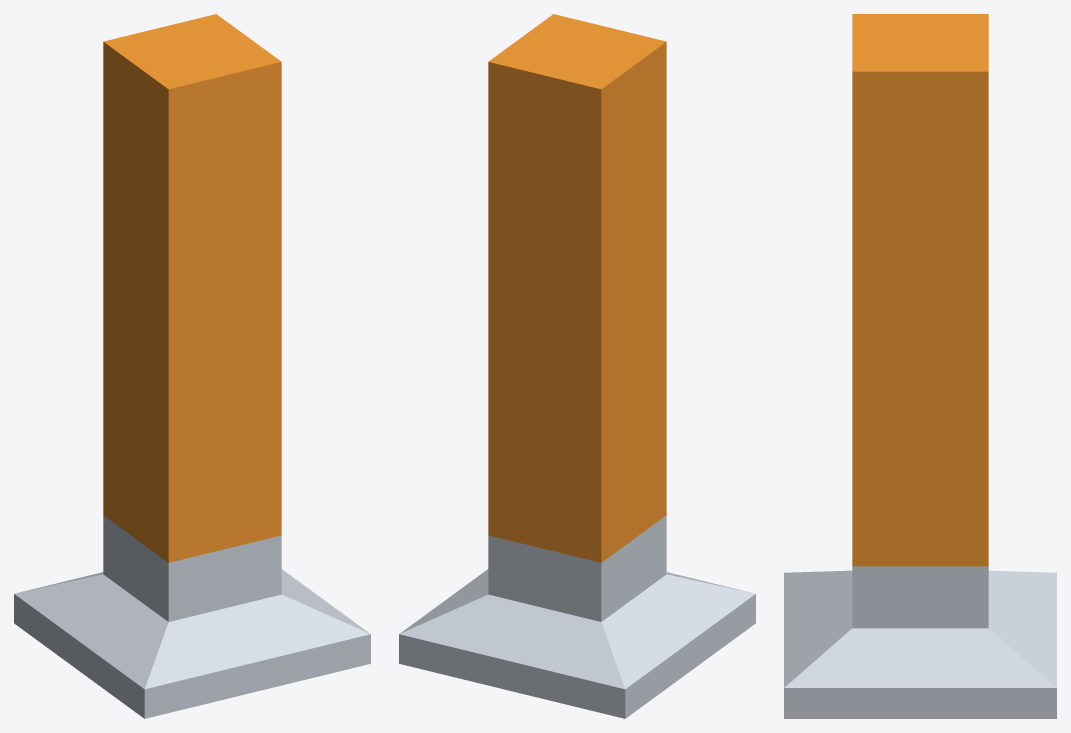
Rendered from pipe_supportHigh.glb.
3 renders of one model, left to right at view 1: azimuth 30°, elevation 25°; view 2: azimuth 150°, elevation 25°; view 3: azimuth 270°, elevation 25°, orthographic. The views are drawn at different scales.
Visible parts, largest first — view 1: pipe_supportHigh; view 2: pipe_supportHigh; view 3: pipe_supportHigh.
Part boxes in pixels (<box>): pipe_supportHigh: <box>14,14,370,718</box>; pipe_supportHigh: <box>399,14,755,718</box>; pipe_supportHigh: <box>784,14,1056,718</box>.
Bounding box in the file's own units: 0.4 × 1 × 0.4.
